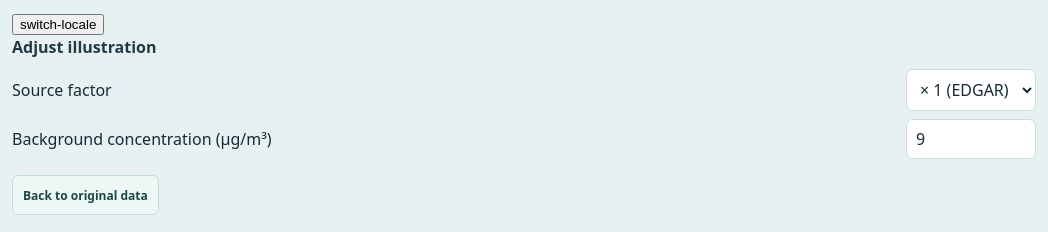
Test case: illustration panel controls › Enter commits like blur: empty or negative text becomes 0
Step 1. Replace the text in the number field labelled "Background concentration (µg/m³)" with "-3" → (971, 139), box [906,119,1036,159]
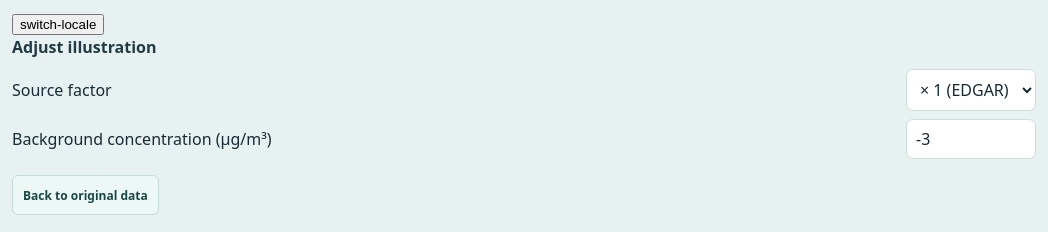
Step 2. Press Enter in the number field labelled "Background concentration (µg/m³)", box [906,119,1036,159]
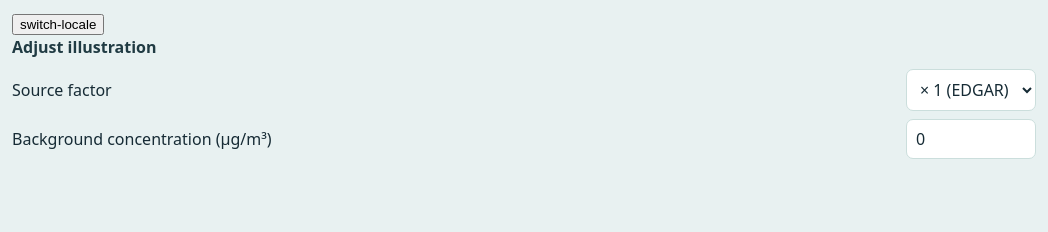
Now the number field labelled "Background concentration (µg/m³)" holds "0"
Step 3. Replace the text in the number field labelled "Background concentration (µg/m³)" with "6" → (971, 139), box [906,119,1036,159]
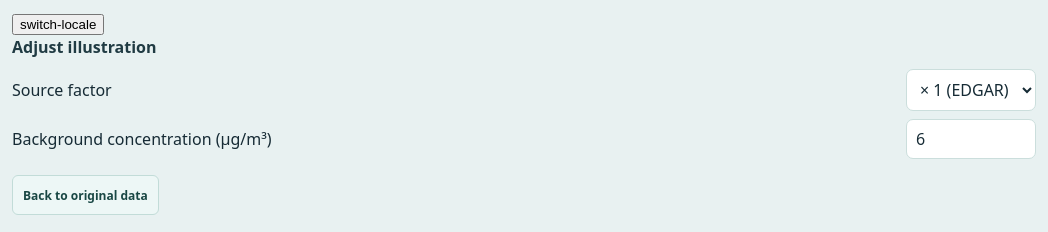
Step 4. Clear the number field labelled "Background concentration (µg/m³)" → (971, 139), box [906,119,1036,159]
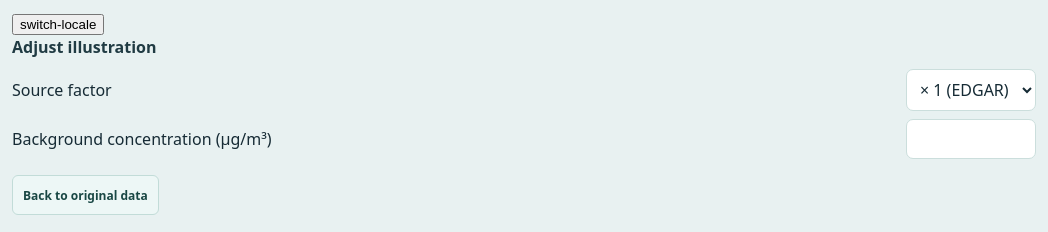
Step 5. Press Enter in the number field labelled "Background concentration (µg/m³)", box [906,119,1036,159]
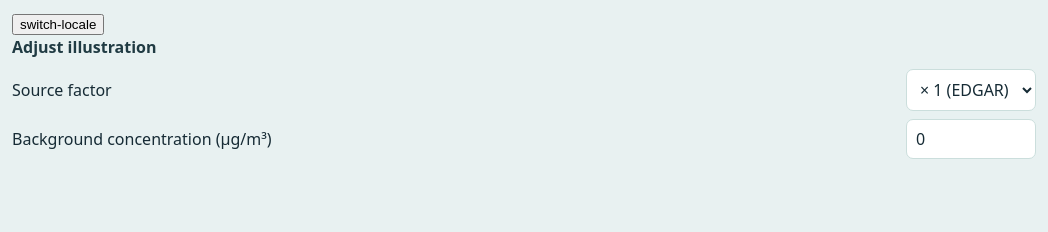
Now the number field labelled "Background concentration (µg/m³)" holds "0", box [906,119,1036,159]
